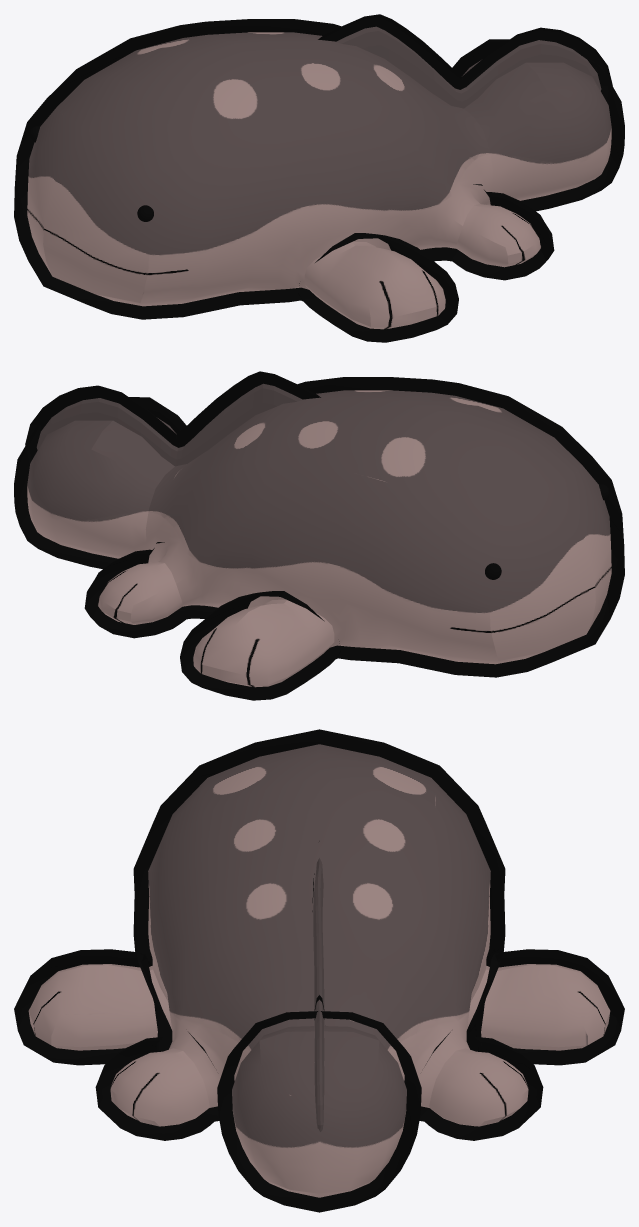
The model's file is clog.glb.
The picture shows the model from 3 angles, top to bottom: view 1: azimuth 30°, elevation 25°; view 2: azimuth 150°, elevation 25°; view 3: azimuth 270°, elevation 25°; orthographic projection. The views are drawn at different scales.
Visible parts, largest first — view 1: Cube_5, Cube.001_3; view 2: Cube_5, Cube.001_3; view 3: Cube_5, Cube.001_3.
Part boxes in pixels (left/top/right/bottom): Cube_5: left=14, top=19, right=624, bottom=342; Cube.001_3: left=318, top=14, right=612, bottom=108; Cube_5: left=14, top=377, right=624, bottom=700; Cube.001_3: left=25, top=371, right=320, bottom=466; Cube_5: left=14, top=729, right=624, bottom=1212; Cube.001_3: left=312, top=841, right=324, bottom=1131.
Size of the model in its own units: 8.05 by 3.06 by 6.6.
Materials: 4 (1 with a texture image).
